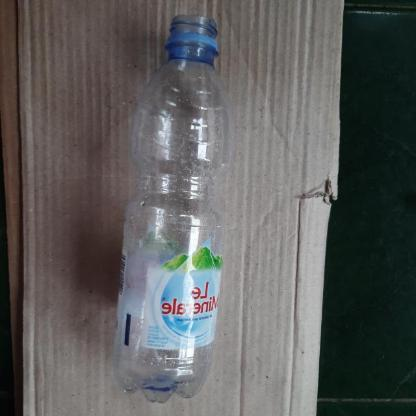Plastic Bottle: (75, 4, 288, 402)
